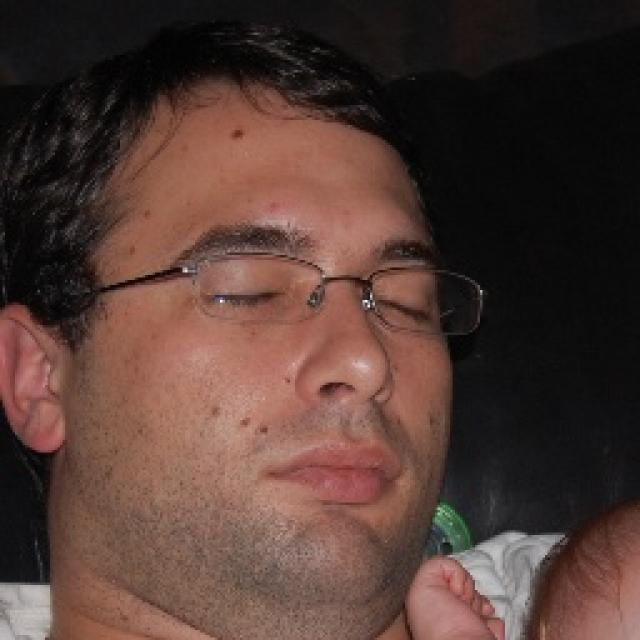earlobe: (7, 411, 71, 454)
eye: (204, 276, 287, 308), (372, 289, 440, 323)
nose: (302, 386, 392, 432)
wholeear: (0, 305, 72, 455)
